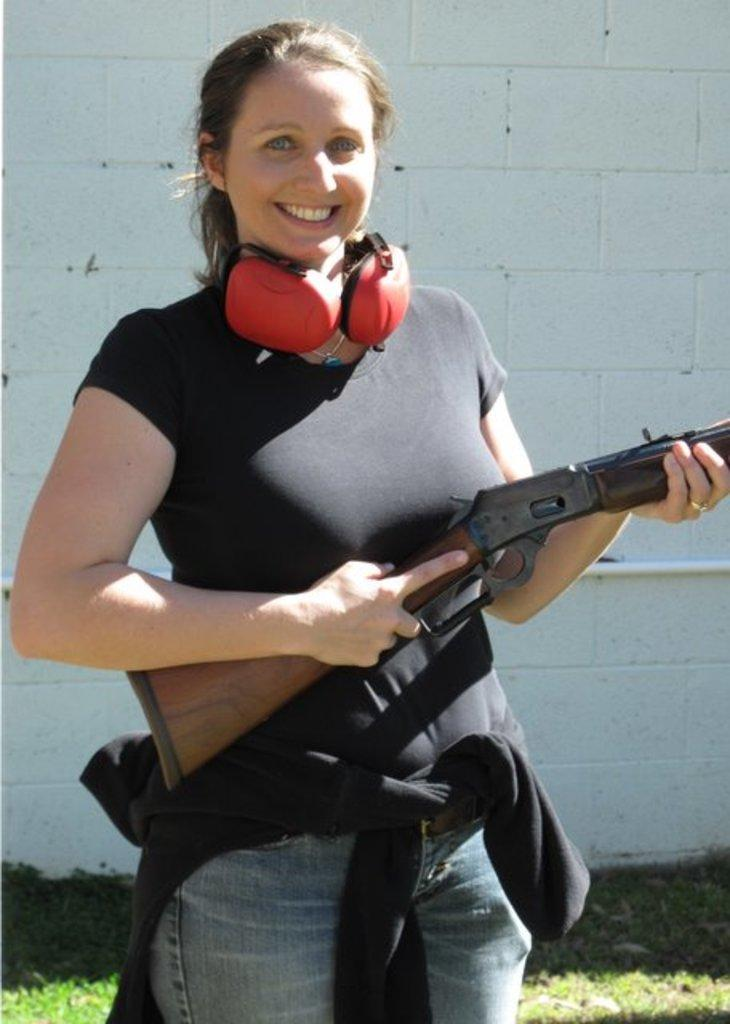Shotgun: (125, 418, 724, 795)
